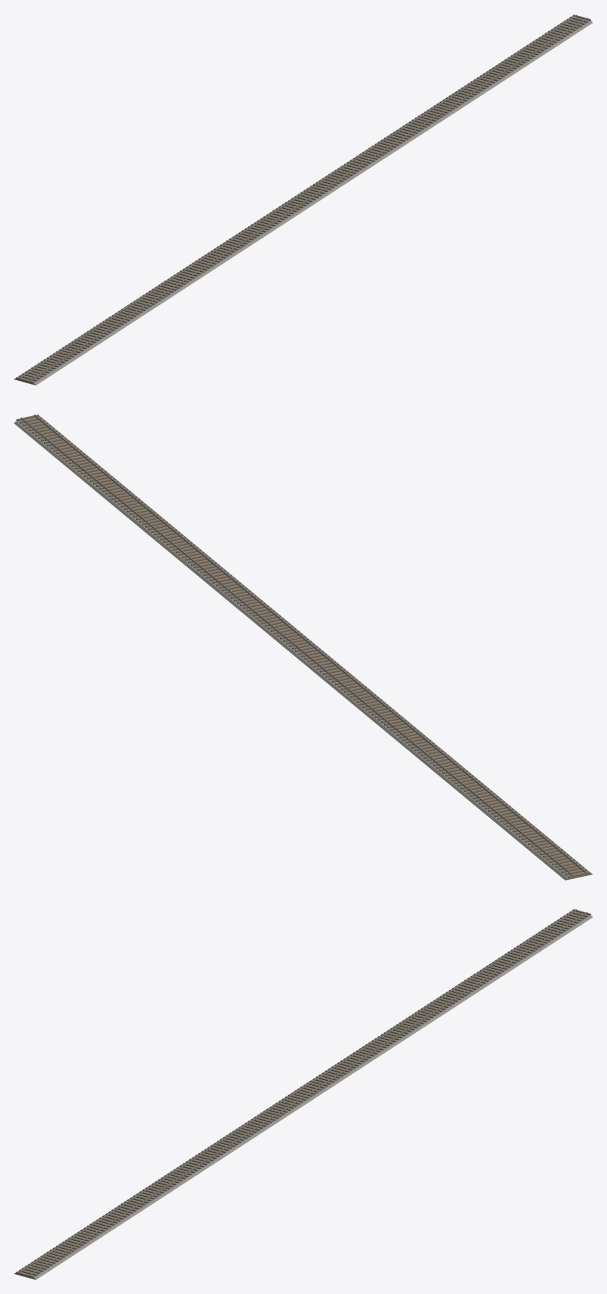
File: rail_01189.glb
3 renders of one model, top to bottom at view 1: azimuth 90°, elevation 25°; view 2: azimuth 150°, elevation 25°; view 3: azimuth 270°, elevation 25°, orthographic. The views are drawn at different scales.
Visible parts, largest first — view 1: Sleepers, Ballast, Rails; view 2: Sleepers, Ballast, Rails; view 3: Sleepers, Ballast, Rails.
Part boxes in pixels (<box>): Sleepers: <box>16,14,590,383</box>; Ballast: <box>14,15,592,385</box>; Rails: <box>19,14,587,381</box>; Sleepers: <box>16,414,590,878</box>; Ballast: <box>14,416,592,880</box>; Rails: <box>21,414,585,875</box>; Sleepers: <box>16,909,590,1277</box>; Ballast: <box>14,910,592,1279</box>; Rails: <box>19,909,587,1275</box>.
Size of the model in its own units: 99.79 by 0.48 by 66.24.
